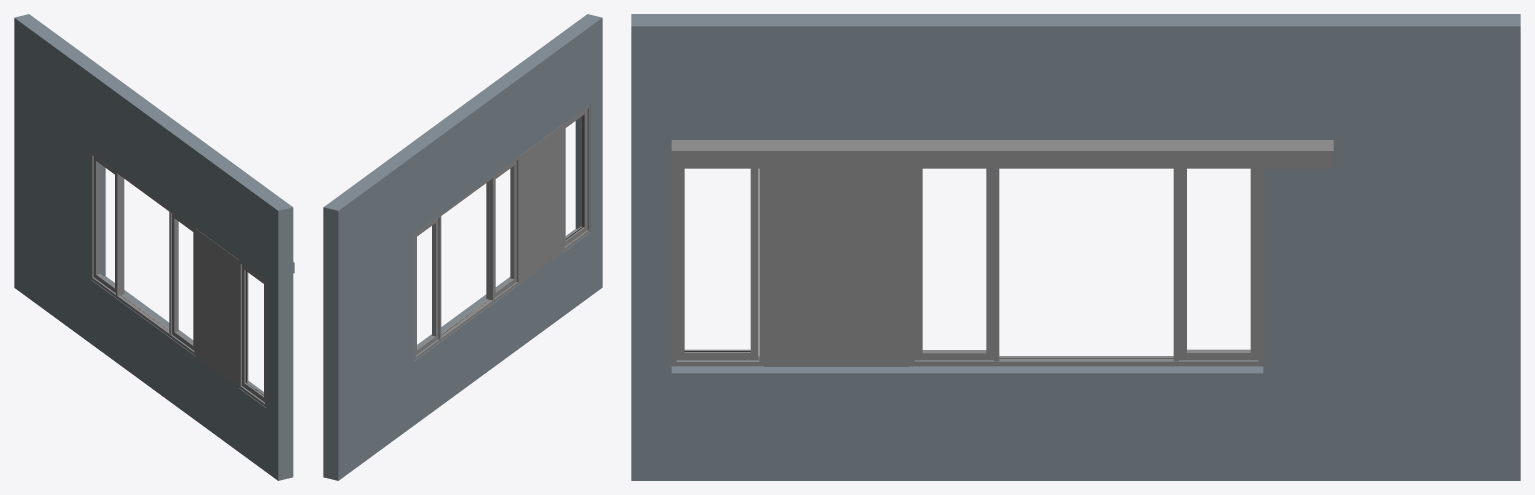
File: fenetre 1.FBX
The picture shows the model from 3 angles, left to right: view 1: azimuth 30°, elevation 25°; view 2: azimuth 150°, elevation 25°; view 3: azimuth 270°, elevation 25°; orthographic projection. The views are drawn at different scales.
Parts seen in each view (by area): view 1: Rectangle14; view 2: Rectangle14; view 3: Rectangle14.
Boxes of the visible parts, bbox=[...] form: Rectangle14: bbox=[14, 14, 294, 480]; Rectangle14: bbox=[323, 14, 602, 480]; Rectangle14: bbox=[631, 14, 1520, 480].
Size of the model in its own units: 2.41 by 21.79 by 38.61.
